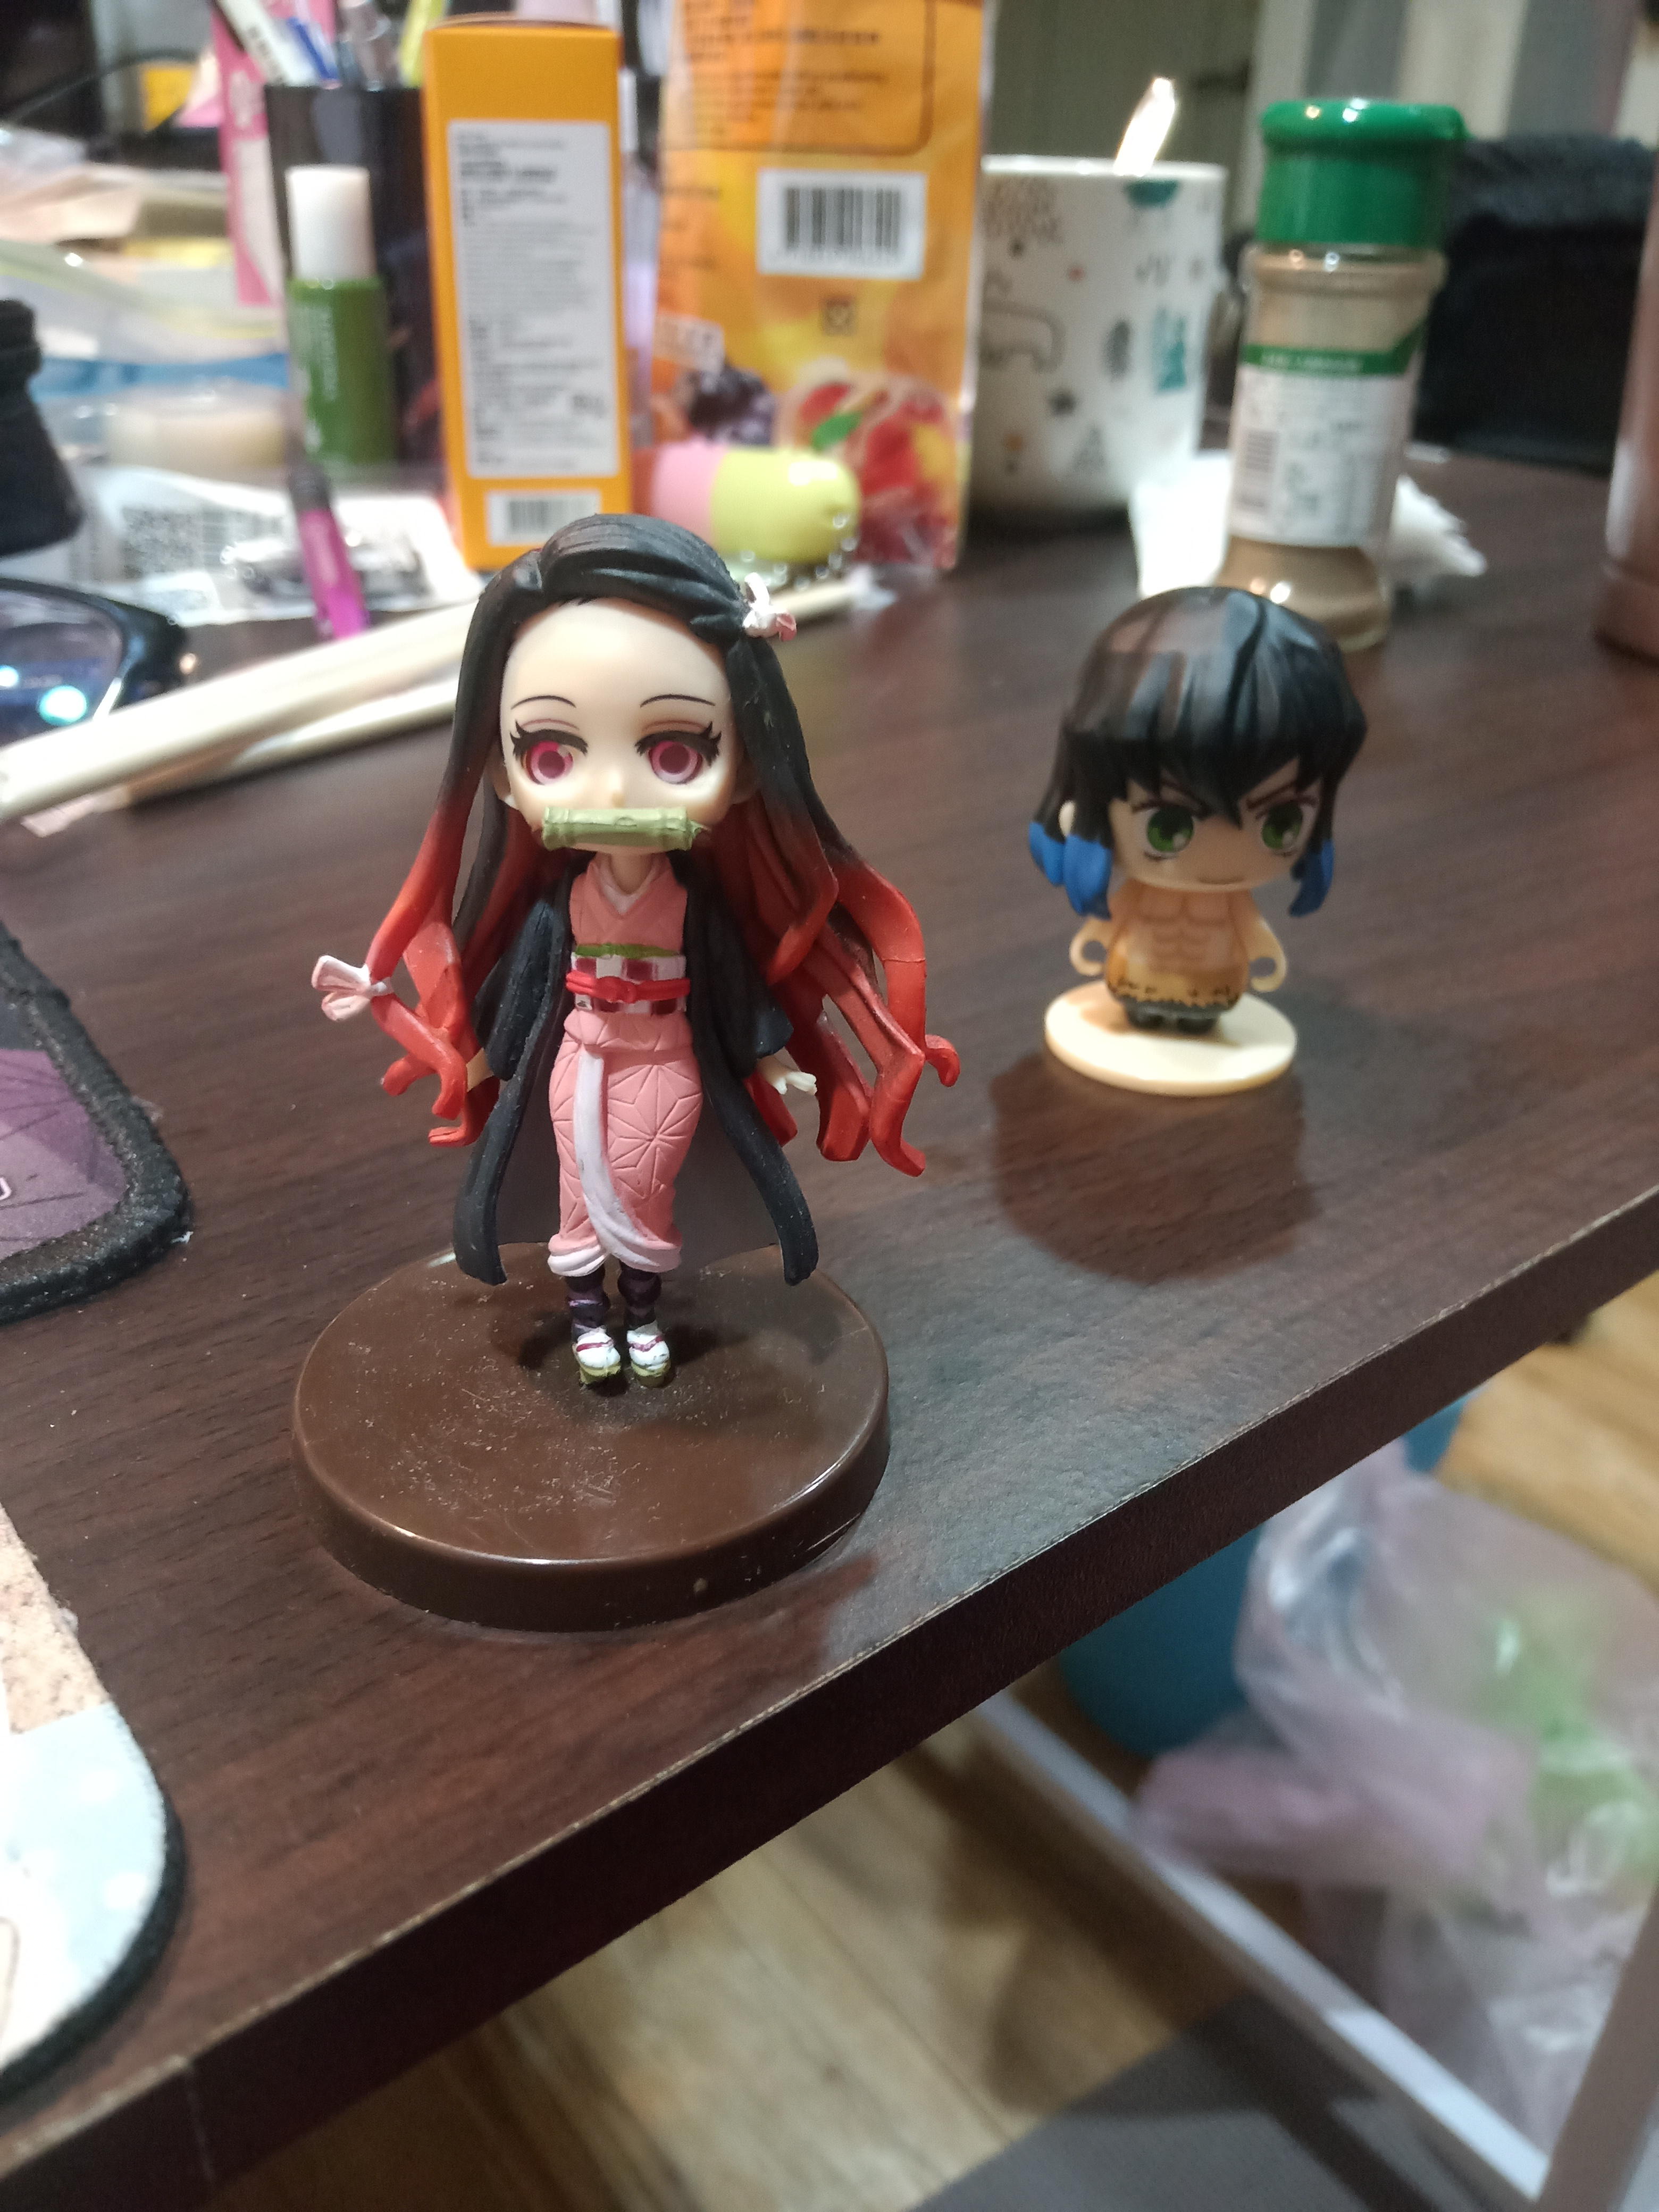Inosuke: (1021, 580, 1375, 1127)
Nezuko: (284, 502, 972, 1648)
